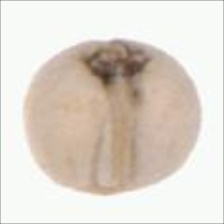L5: (87, 76, 146, 194), (69, 36, 157, 84)
L6: (19, 37, 206, 196)
